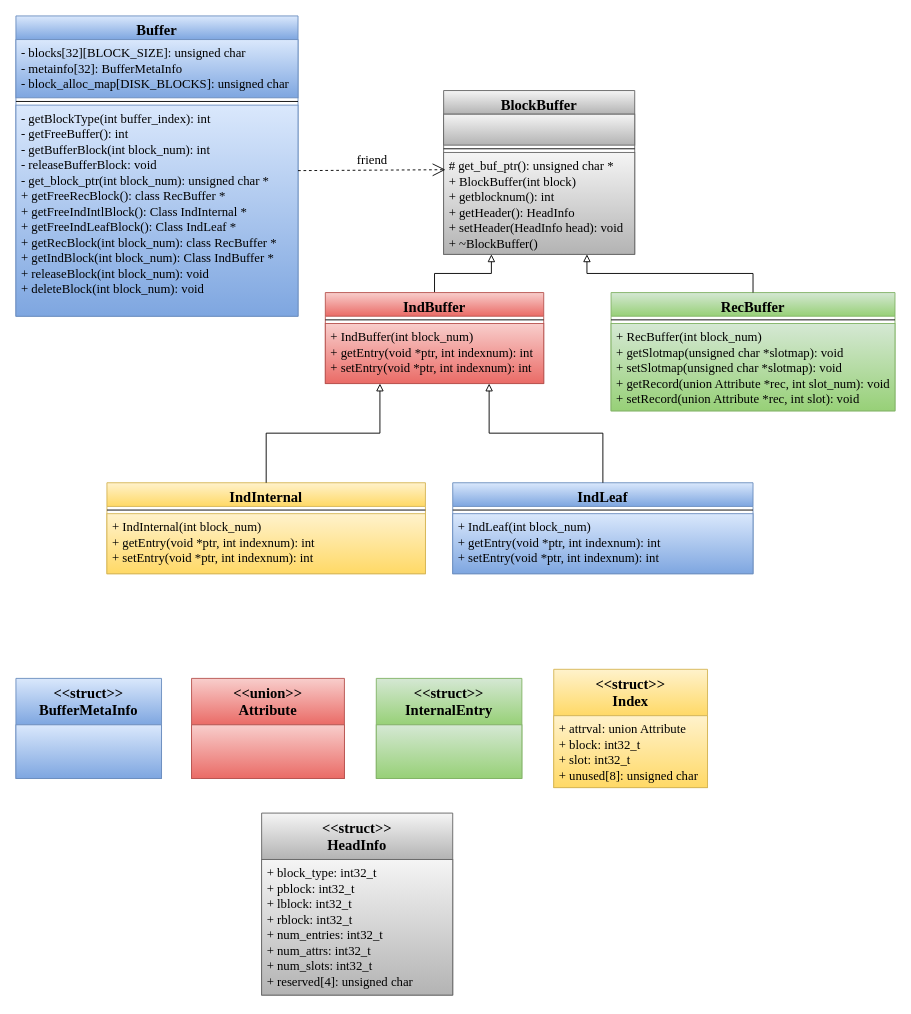
The diagram is 911 pixels wide and 1014 high, and some of its shapes have lost their labels. Each missing label, with the centre of its shape:
"# block_num: int" belongs at point 539,129.
"+ free: bool + dirty: bool + block_num: int" belongs at point 88,751.
"+ ival: int + fval: int + strval[ATTR_SIZE]: char" belongs at point 267,751.
"+ lchild: int32_t + attrval: union Attribute + rchild: int32_t" belongs at point 448,751.
